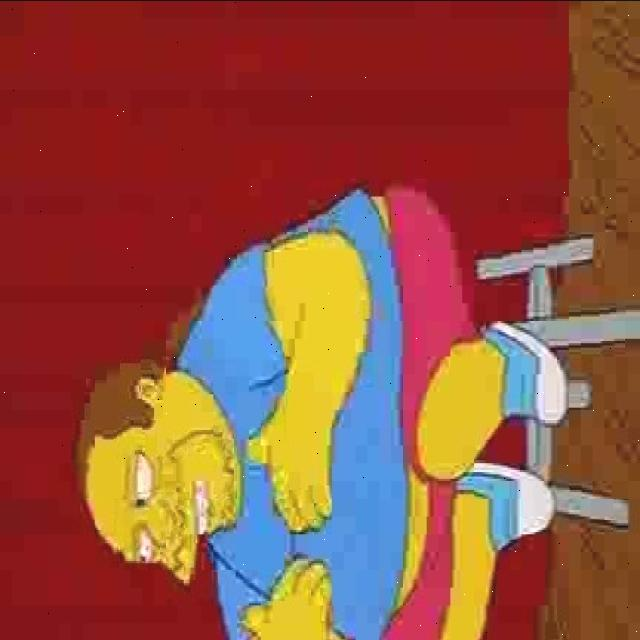Comic Book Guy: (75, 329, 248, 591)
